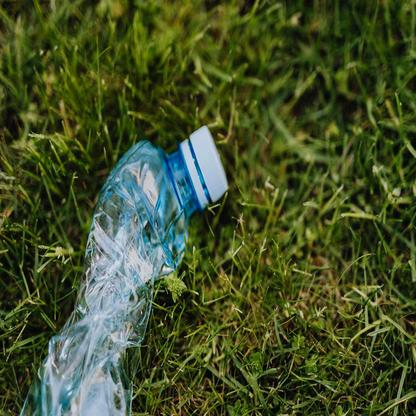plastic bottle: (38, 125, 228, 415)
